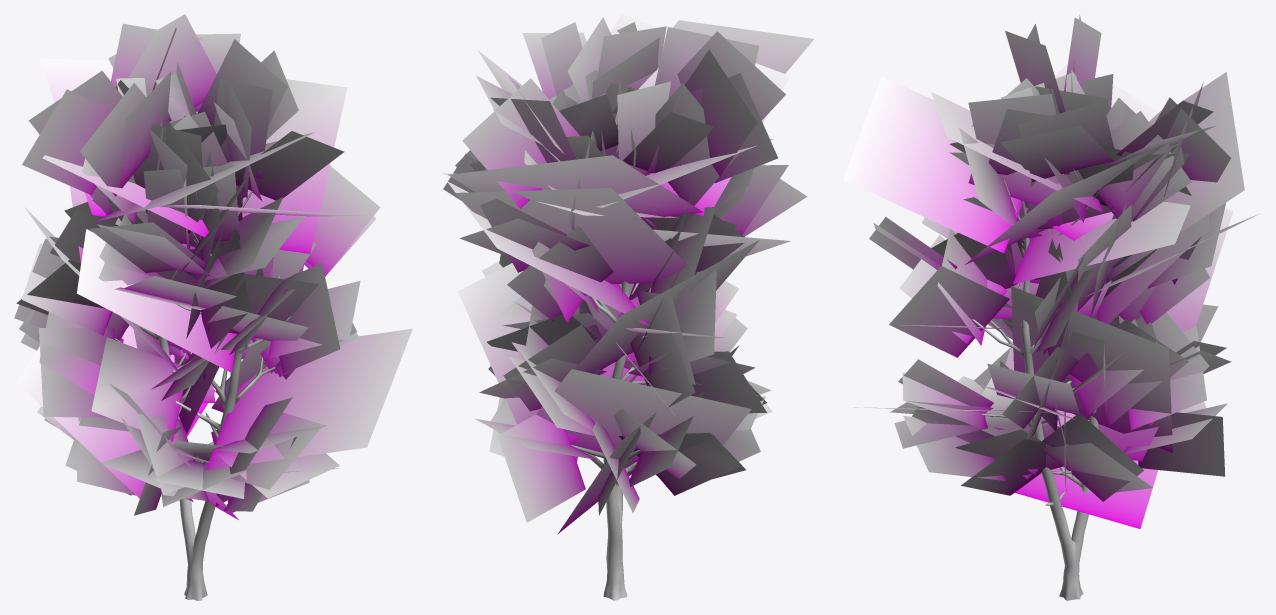
File: Tree_B.FBX
3 views of the same model, side by side, from view 1: azimuth 30°, elevation 25°; view 2: azimuth 150°, elevation 25°; view 3: azimuth 270°, elevation 25° (orthographic). The views are drawn at different scales.
Parts seen in each view (by area): view 1: Tree_B; view 2: Tree_B; view 3: Tree_B.
Boxes of the visible parts, x1,y1,x2,y2 form: Tree_B: (14,14,412,600); Tree_B: (442,14,814,600); Tree_B: (843,14,1258,600).
Size of what is drawn, in the model's own units: 766 by 1183 by 839.
